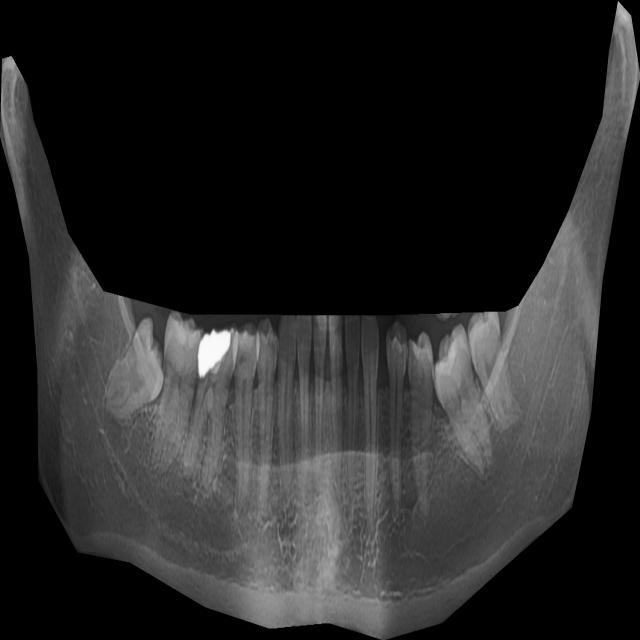mandibula: (0, 1, 640, 640)
